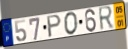5: (14, 19, 27, 43)
6: (84, 8, 97, 33)
7: (28, 16, 42, 41)
O: (63, 11, 79, 36)
P: (46, 14, 63, 40)
R: (97, 5, 115, 33)
